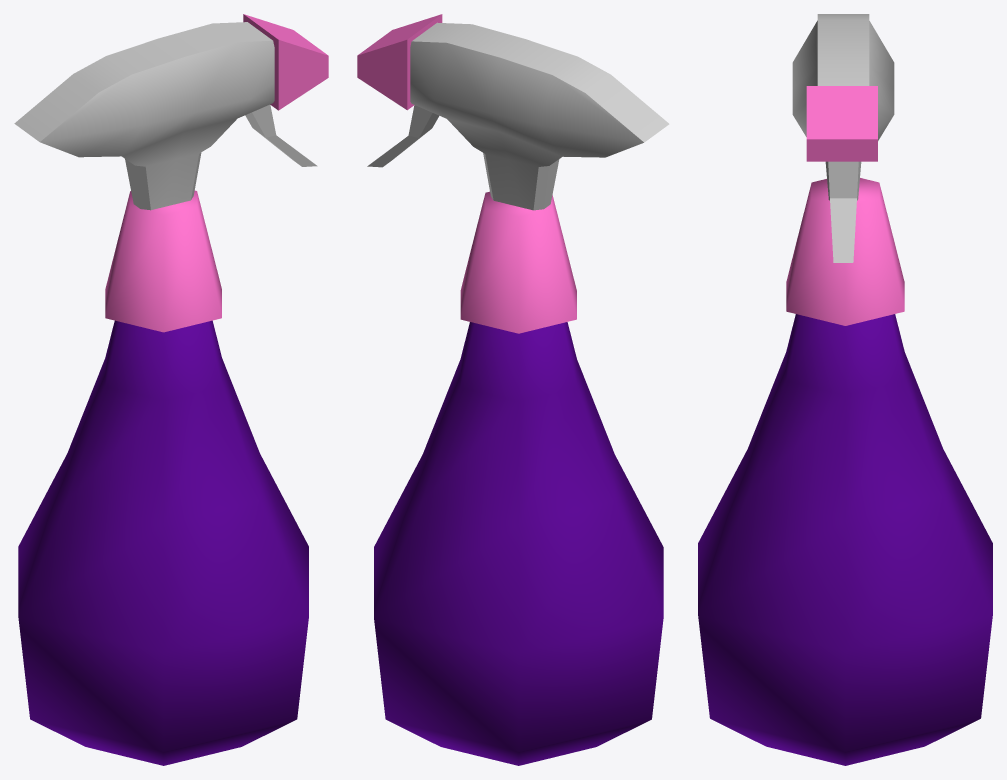
The model's file is Spray_Bottle_D.FBX.
The picture shows the model from 3 angles, left to right: view 1: azimuth 30°, elevation 25°; view 2: azimuth 150°, elevation 25°; view 3: azimuth 270°, elevation 25°; orthographic projection.
Parts seen in each view (by area): view 1: Spray_Bottle; view 2: Spray_Bottle; view 3: Spray_Bottle.
Part boxes in pixels (x1,y1,x2,y2): Spray_Bottle: (14,14,328,765); Spray_Bottle: (357,14,669,765); Spray_Bottle: (698,14,992,765).
Bounding box in the file's own units: 43.95 × 97.44 × 37.68.
